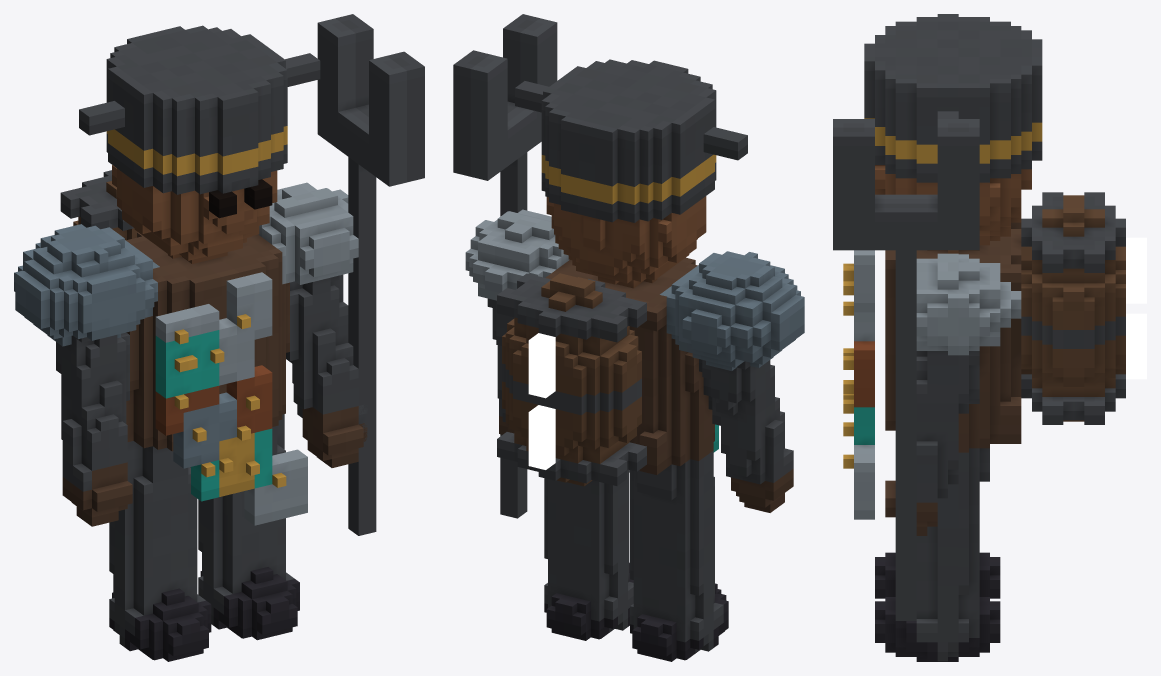
The model's file is u_receleur__artificier.glb.
3 renders of one model, left to right at view 1: azimuth 30°, elevation 25°; view 2: azimuth 150°, elevation 25°; view 3: azimuth 270°, elevation 25°, orthographic. The views are drawn at different scales.
Visible parts, largest first — view 1: receleur_body, receleur_weapon; view 2: receleur_body, receleur_weapon, receleur_glow; view 3: receleur_body, receleur_weapon, receleur_glow.
Part boxes in pixels (x1,y1,x2,y2): receleur_body: [14, 25, 367, 661]; receleur_weapon: [317, 14, 424, 535]; receleur_body: [465, 59, 804, 661]; receleur_weapon: [453, 14, 557, 518]; receleur_glow: [528, 333, 555, 469]; receleur_body: [843, 14, 1125, 661]; receleur_weapon: [833, 119, 979, 620]; receleur_glow: [1126, 237, 1146, 379].
Size of the model in its own units: 0.95 by 1.53 by 0.75.
